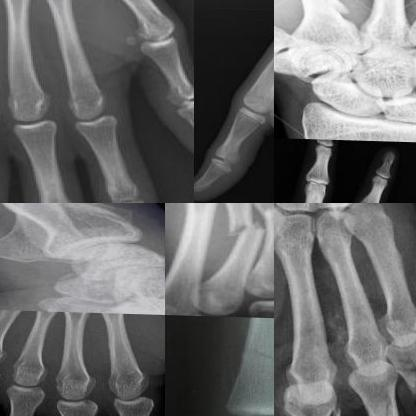fracture: (232, 327, 273, 383), (224, 209, 264, 247), (391, 348, 415, 407), (282, 396, 344, 415), (362, 386, 400, 415), (259, 203, 273, 229)
